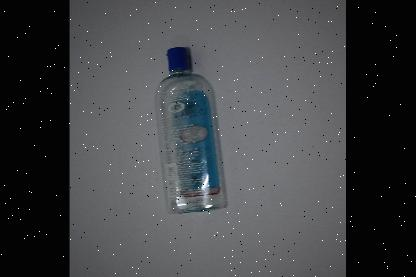Plastic Bottle: (154, 45, 227, 213)
